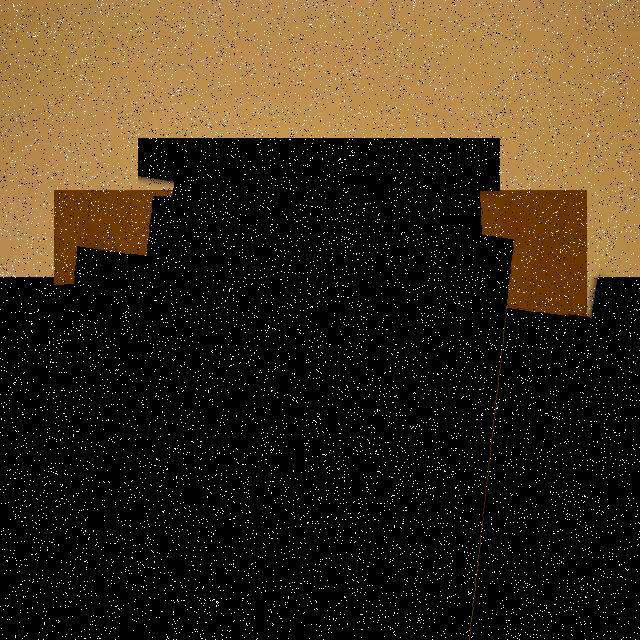dua puluh ribu rupiah: (54, 190, 587, 640)
